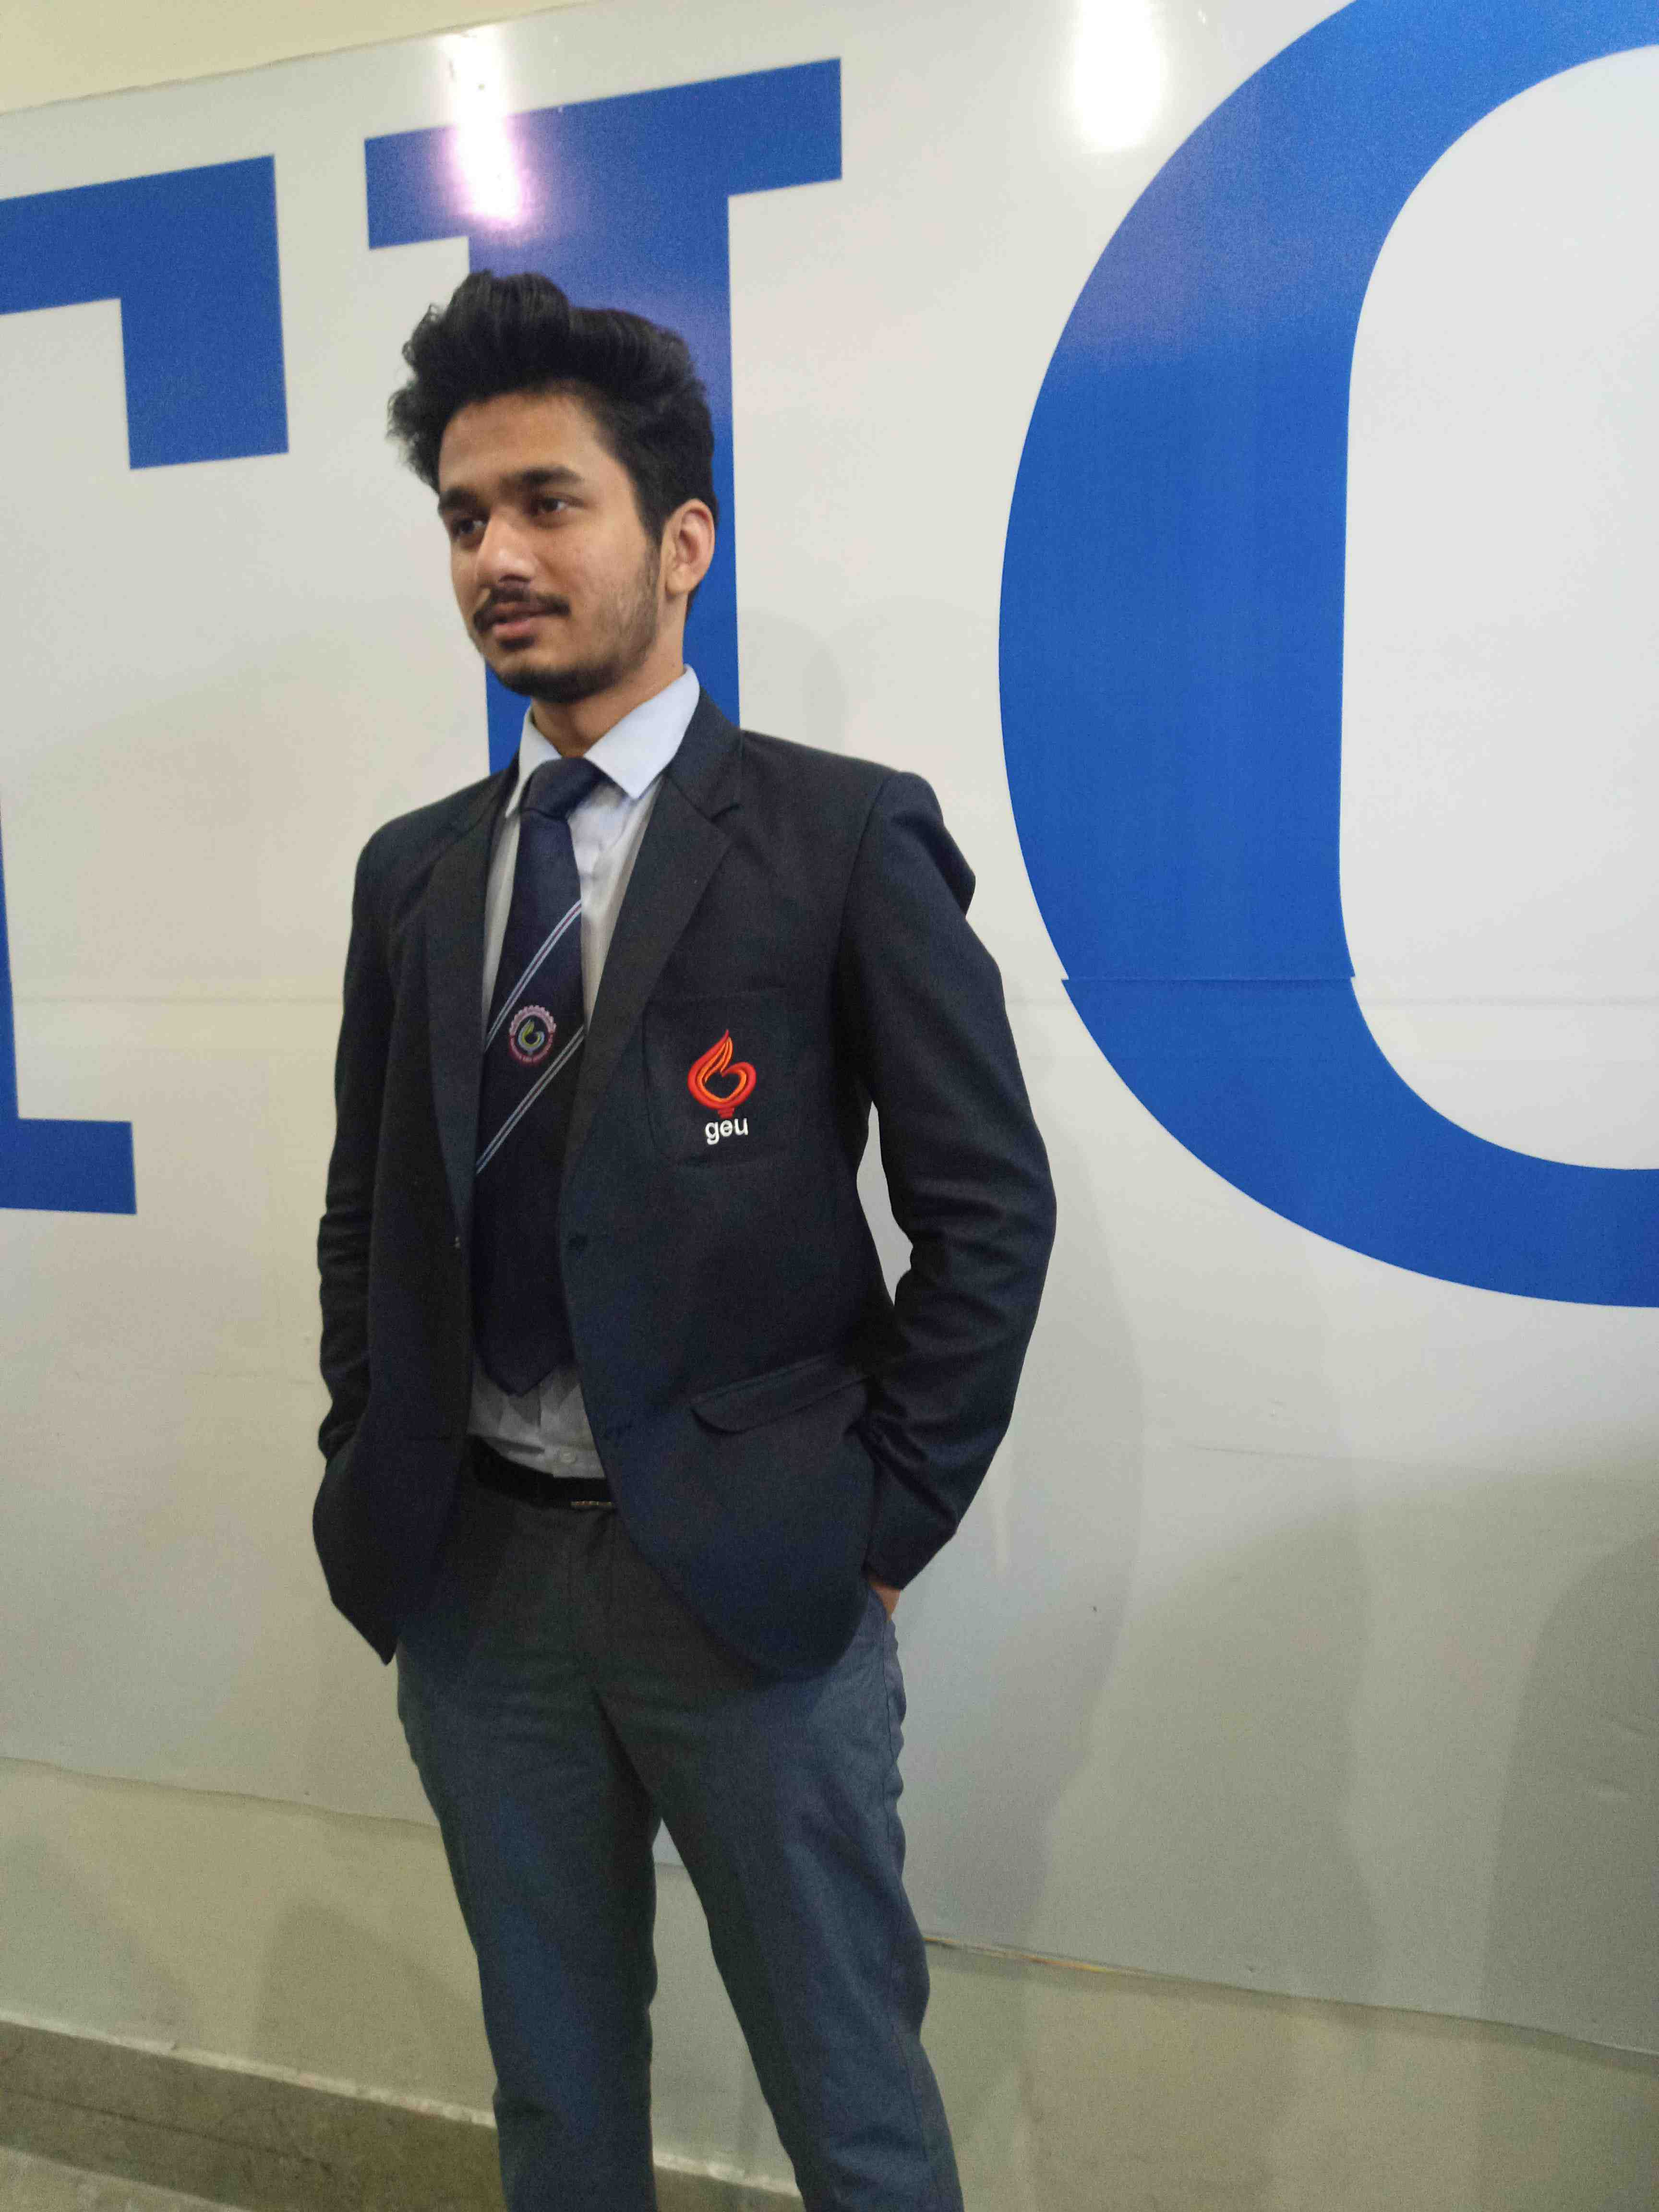blazer: (286, 702, 1079, 1651)
pant: (401, 1501, 917, 2196)
tie: (477, 766, 624, 1442)
